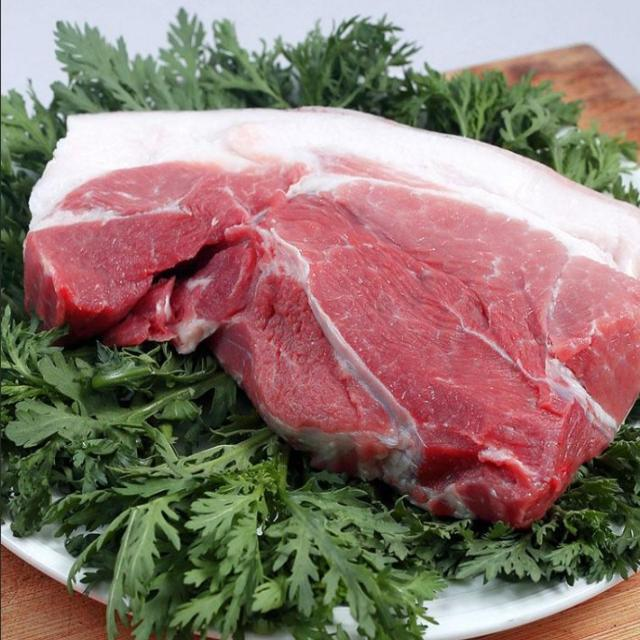pork: (20, 86, 631, 528)
